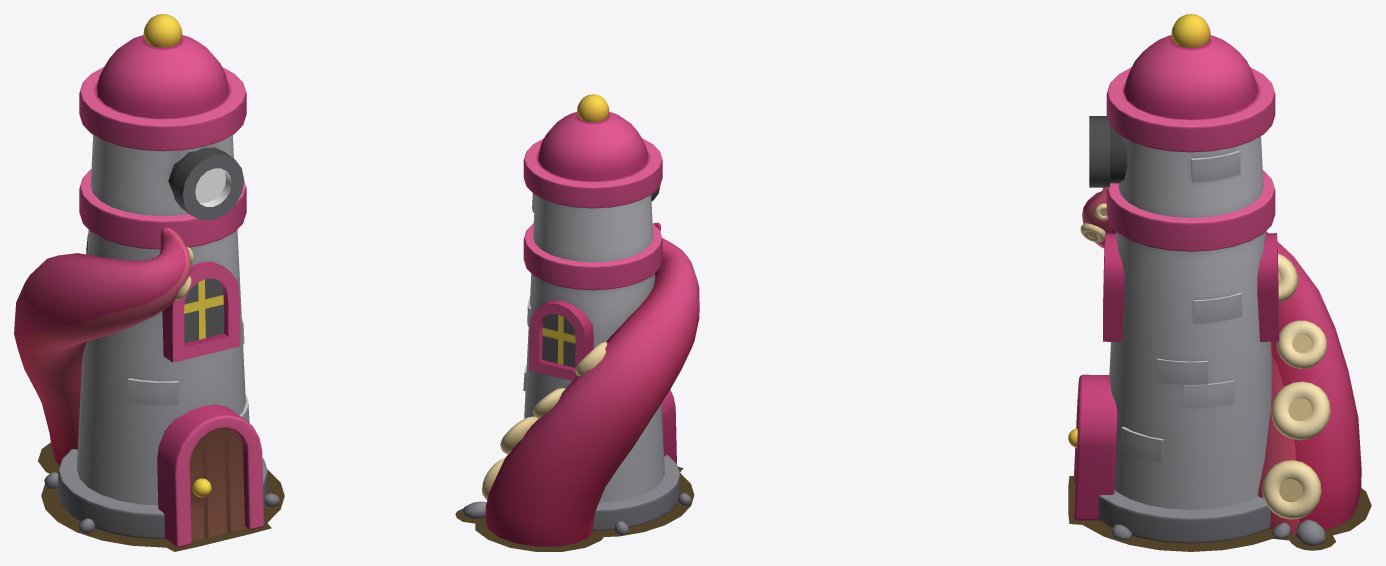
File: Mu_Lighthouse.fbx
3 views of the same model, side by side, from view 1: azimuth 30°, elevation 25°; view 2: azimuth 150°, elevation 25°; view 3: azimuth 270°, elevation 25° (orthographic). The views are drawn at different scales.
Visible parts, largest first — view 1: Mu_Lighthouse_a, Mu_Lighthouse_b, Mu_Lighthouse_shadow; view 2: Mu_Lighthouse_a, Mu_Lighthouse_b, Mu_Lighthouse_shadow; view 3: Mu_Lighthouse_a, Mu_Lighthouse_b, Mu_Lighthouse_shadow.
Part boxes in pixels (x1=…): Mu_Lighthouse_a: x1=44, y1=14, x2=279, y2=547; Mu_Lighthouse_b: x1=14, y1=227, x2=193, y2=465; Mu_Lighthouse_shadow: x1=38, y1=442, x2=284, y2=551; Mu_Lighthouse_a: x1=462, y1=94, x2=691, y2=534; Mu_Lighthouse_b: x1=482, y1=222, x2=699, y2=546; Mu_Lighthouse_shadow: x1=455, y1=466, x2=694, y2=551; Mu_Lighthouse_a: x1=1068, y1=14, x2=1325, y2=545; Mu_Lighthouse_b: x1=1080, y1=187, x2=1361, y2=533; Mu_Lighthouse_shadow: x1=1068, y1=476, x2=1371, y2=551.
Bounding box in the file's own units: 309 × 641 × 635.
Materials: 2 (1 with a texture image).
